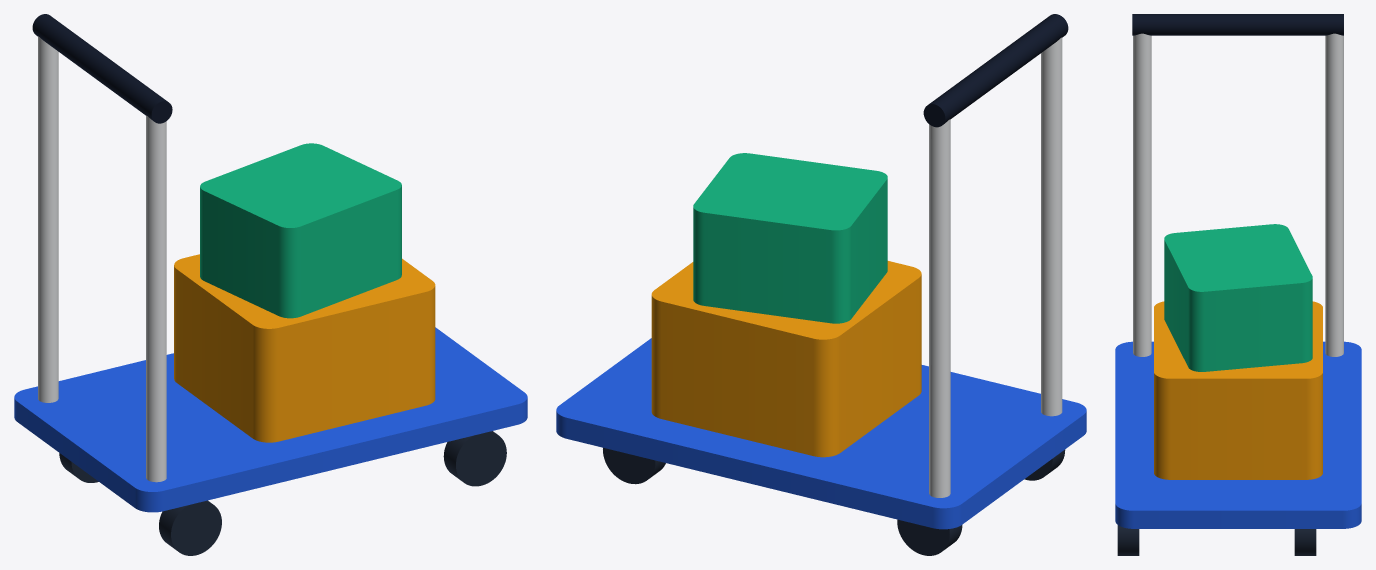
The model's file is luggage_cart.glb.
3 views of the same model, side by side, from view 1: azimuth 30°, elevation 25°; view 2: azimuth 150°, elevation 25°; view 3: azimuth 270°, elevation 25° (orthographic). The views are drawn at different scales.
Visible parts, largest first — view 1: cart_bed, cart_bag1, cart_bag2, cpole_L, cpole_R, chbar, cw_0, cw_1; view 2: cart_bed, cart_bag1, cart_bag2, cpole_R, cpole_L, chbar, cw_2, cw_3; view 3: cart_bed, cart_bag1, cart_bag2, cpole_L, cpole_R, chbar, cw_1, cw_3.
Boxes of the visible parts, left/top/right/bottom form: cart_bed: left=14, top=327, right=527, bottom=512; cart_bag1: left=174, top=254, right=435, bottom=442; cart_bag2: left=200, top=143, right=401, bottom=318; cpole_L: left=146, top=115, right=166, bottom=482; cpole_R: left=38, top=36, right=58, bottom=402; chbar: left=32, top=14, right=172, bottom=123; cw_0: left=159, top=500, right=221, bottom=555; cw_1: left=443, top=431, right=506, bottom=486; cart_bed: left=556, top=338, right=1086, bottom=529; cart_bag1: left=651, top=261, right=921, bottom=457; cart_bag2: left=693, top=153, right=887, bottom=323; cpole_R: left=929, top=119, right=950, bottom=497; cpole_L: left=1041, top=37, right=1062, bottom=416; chbar: left=923, top=14, right=1068, bottom=127; cw_2: left=897, top=519, right=962, bottom=555; cw_3: left=603, top=448, right=665, bottom=484; cart_bed: left=1115, top=341, right=1361, bottom=528; cart_bag1: left=1154, top=301, right=1322, bottom=479; cart_bag2: left=1164, top=224, right=1312, bottom=371; cpole_L: left=1133, top=33, right=1151, bottom=356; cpole_R: left=1325, top=33, right=1343, bottom=356; chbar: left=1132, top=14, right=1343, bottom=35; cw_1: left=1117, top=525, right=1139, bottom=555; cw_3: left=1294, top=529, right=1316, bottom=555.
Size of the model in its own units: 0.52 by 0.5789 by 0.32.
